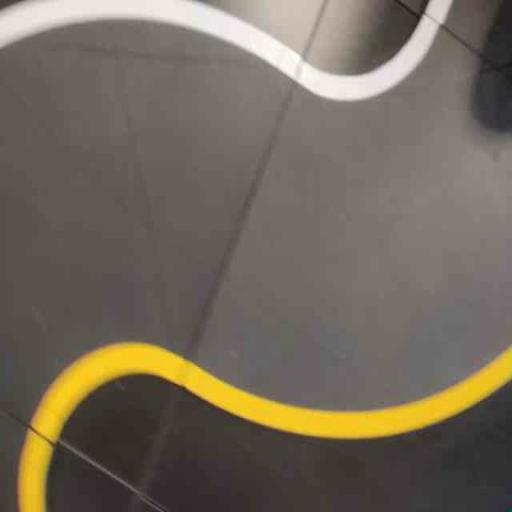left: (173, 0, 497, 487)
